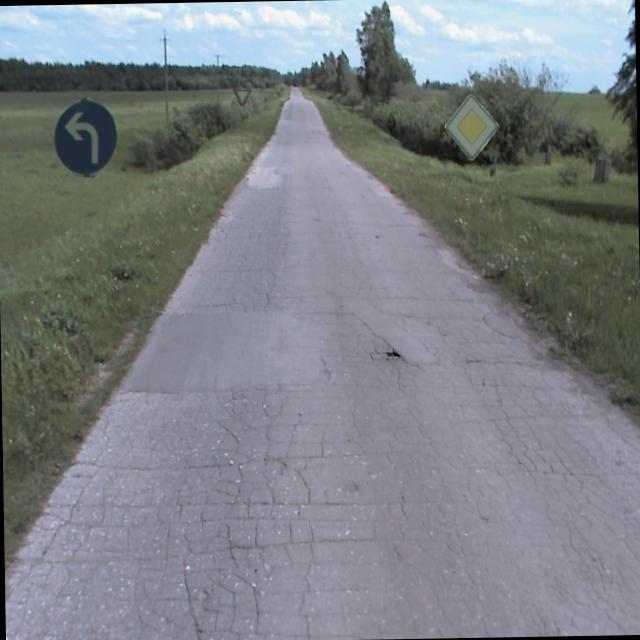road: (5, 103, 640, 640)
